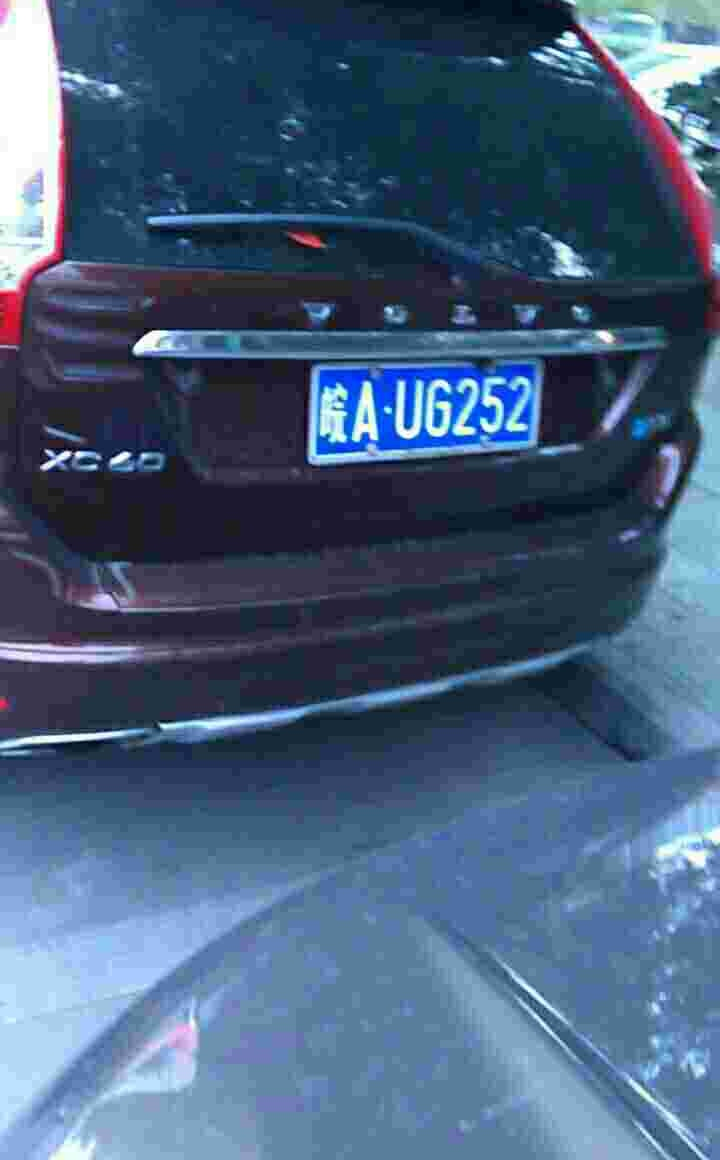plate: (320, 355, 547, 461)
